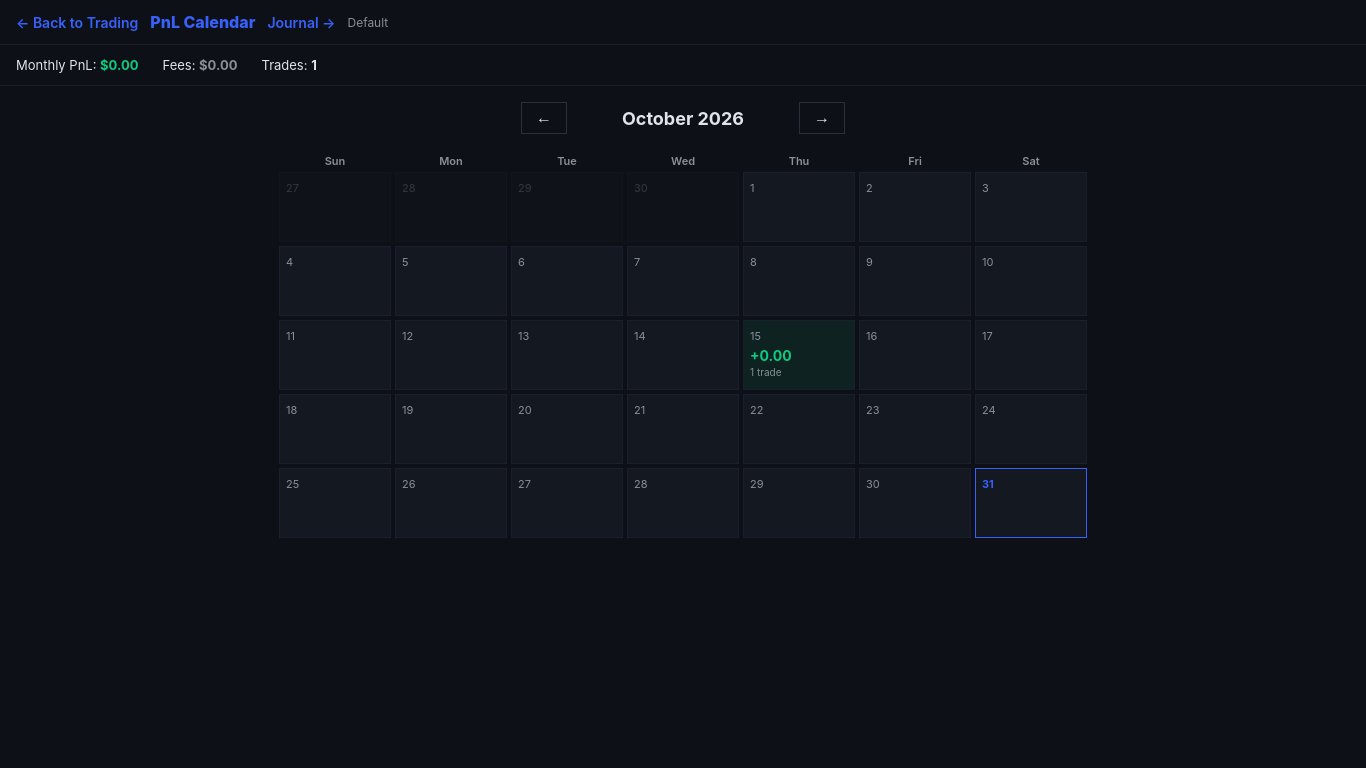
Test: PnlCalendar — spread group rendering › renders a perp fill as a single row (no spread header)
Click the element showing "15 +0.00 1 trade" at point(799, 355), box [743, 320, 855, 390]
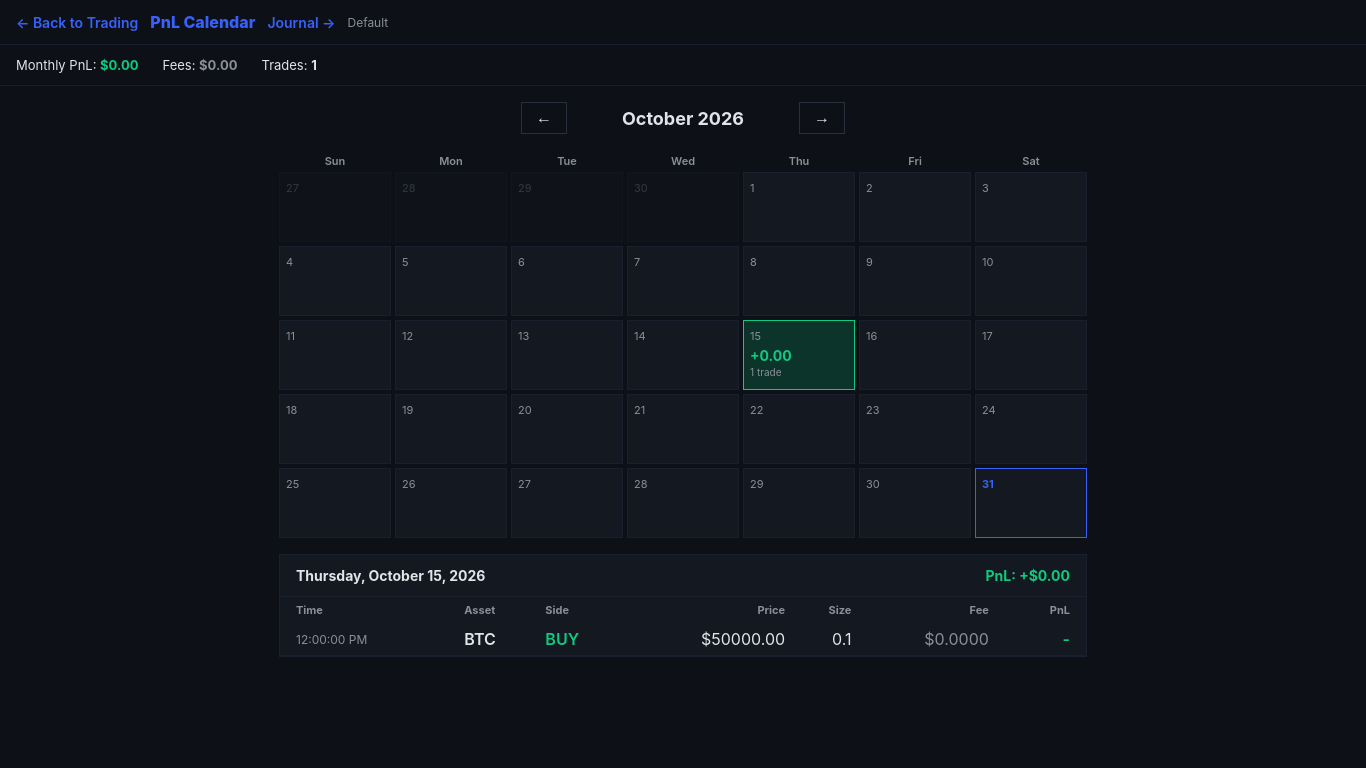
Now the text "BTC" is shown, box [456, 623, 537, 656]
Now the text "BUY" is shown, box [537, 623, 622, 656]
